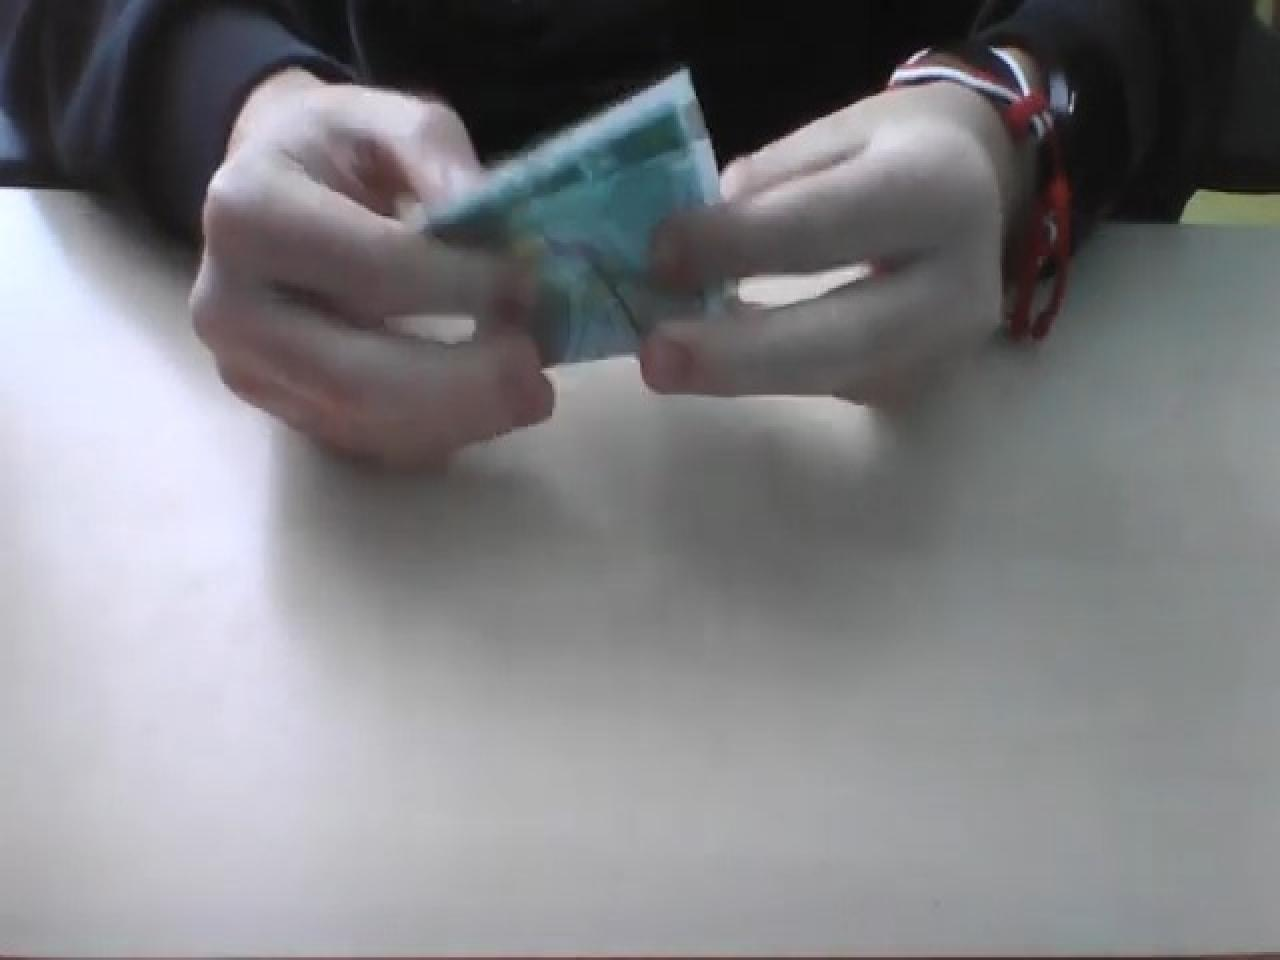100leva: (412, 62, 734, 371)
